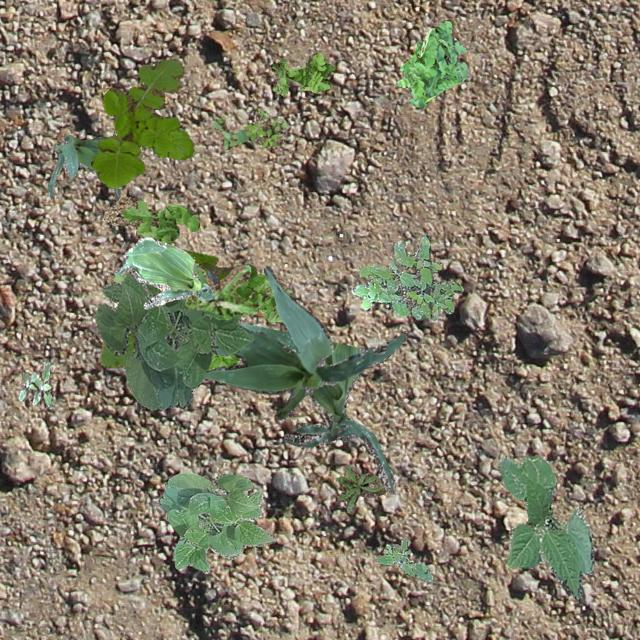crop: (202, 266, 404, 418), (238, 322, 394, 492), (95, 272, 252, 409), (496, 454, 594, 598), (158, 472, 274, 572), (114, 236, 214, 308), (46, 132, 120, 198)
weed: (102, 195, 288, 368), (100, 250, 256, 366), (90, 58, 192, 188), (350, 233, 462, 320), (396, 18, 468, 106), (185, 262, 258, 318), (212, 108, 286, 148), (270, 52, 334, 94), (374, 536, 432, 582), (334, 464, 384, 512), (18, 362, 52, 406)
